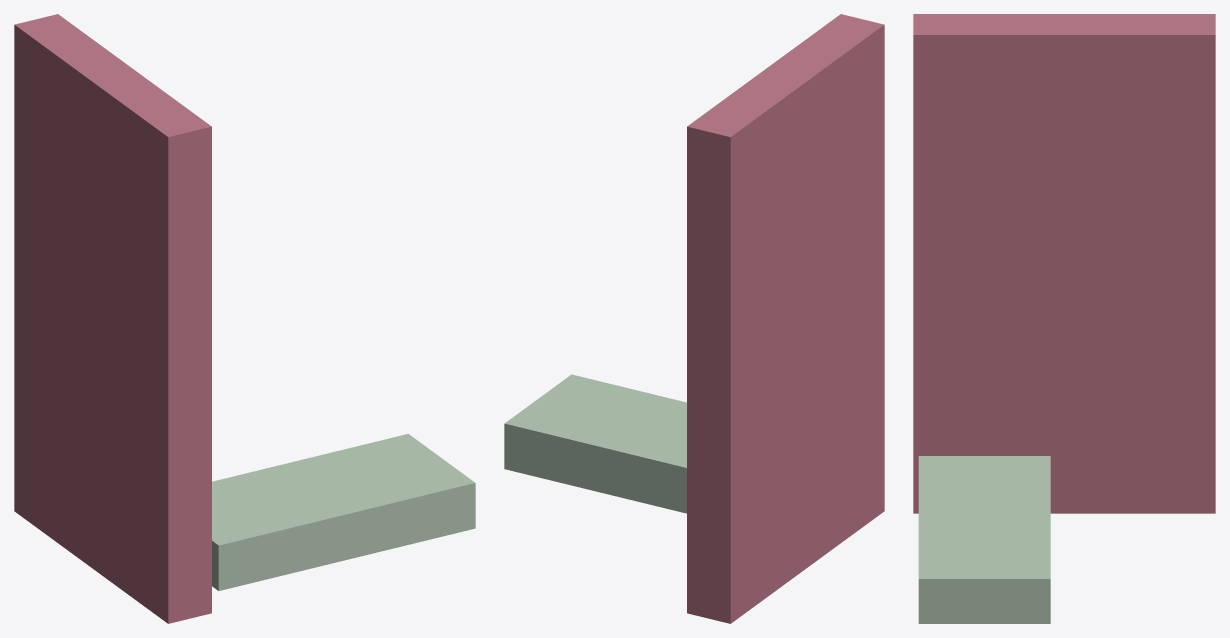
Rendered from 199518_pred.glb.
3 views of the same model, side by side, from view 1: azimuth 30°, elevation 25°; view 2: azimuth 150°, elevation 25°; view 3: azimuth 270°, elevation 25° (orthographic).
Visible parts, largest first — view 1: world; view 2: world; view 3: world.
Part boxes in pixels (x1,y1,x2,y2): world: (14,14,475,623); world: (504,14,884,623); world: (913,14,1215,623).
Size of the model in its own units: 6.4 by 9.6 by 5.5.
